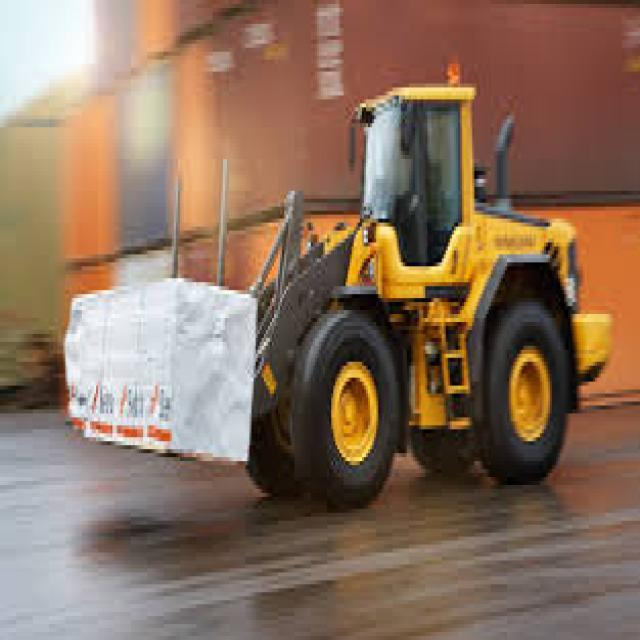buldozerpayloadergrader: (224, 64, 615, 533)
